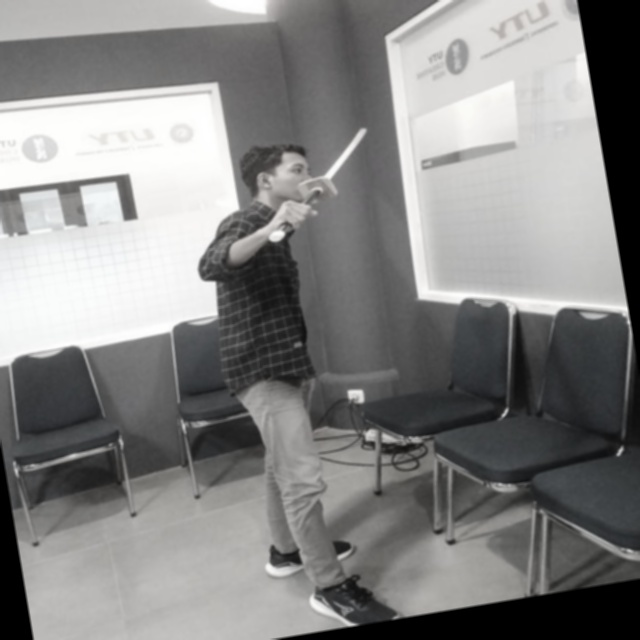Sharp-Object: (245, 114, 412, 257)
